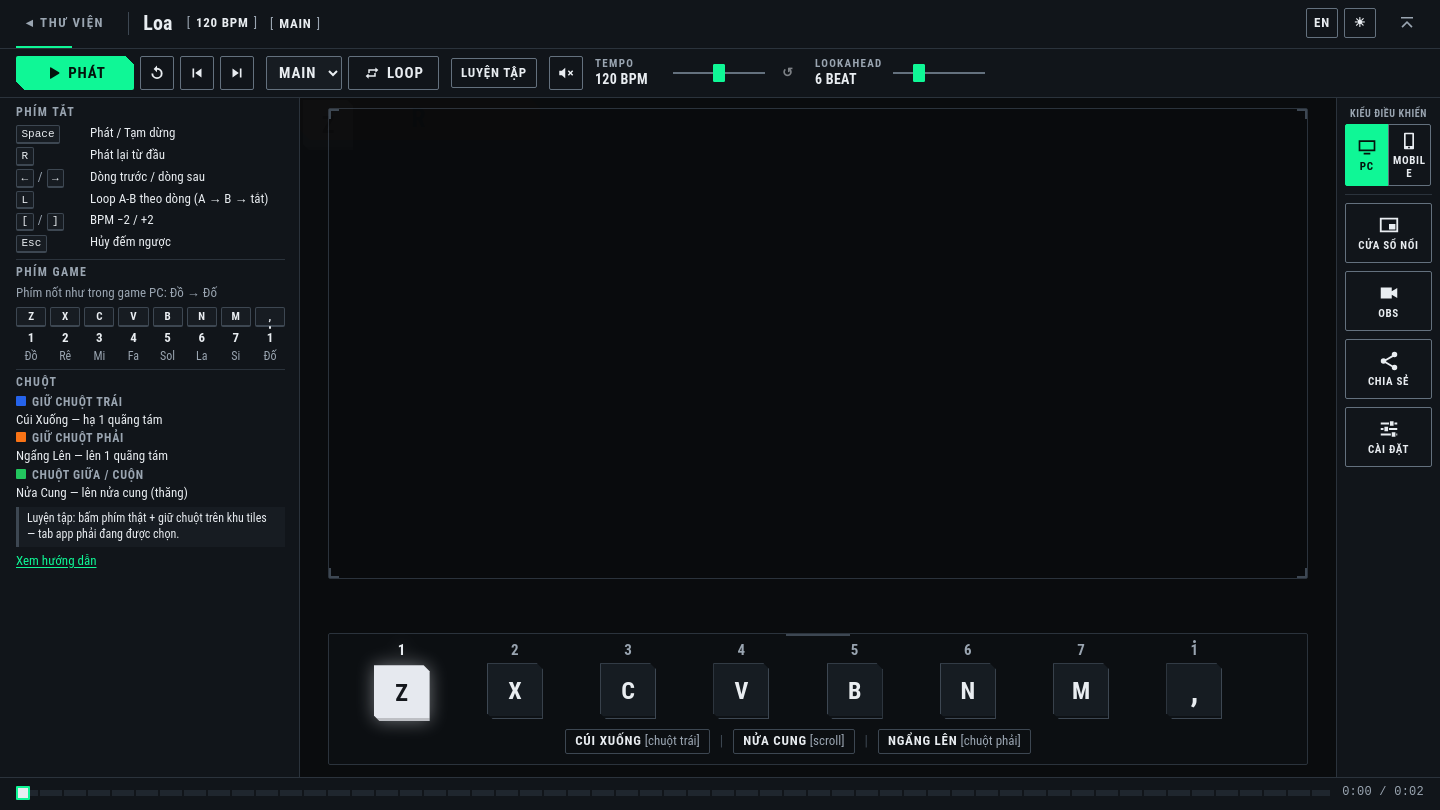
Test: màn chơi — nút loa (giai điệu mẫu) › Hủy (và Esc) giữ tắt tiếng, focus về nút loa
Press the mouse on the button named "Tiếng giai điệu" at (566, 73), box [549, 56, 583, 90]
Press the mouse on the button named "Tiếng giai điệu" at (566, 73), box [549, 56, 583, 90]
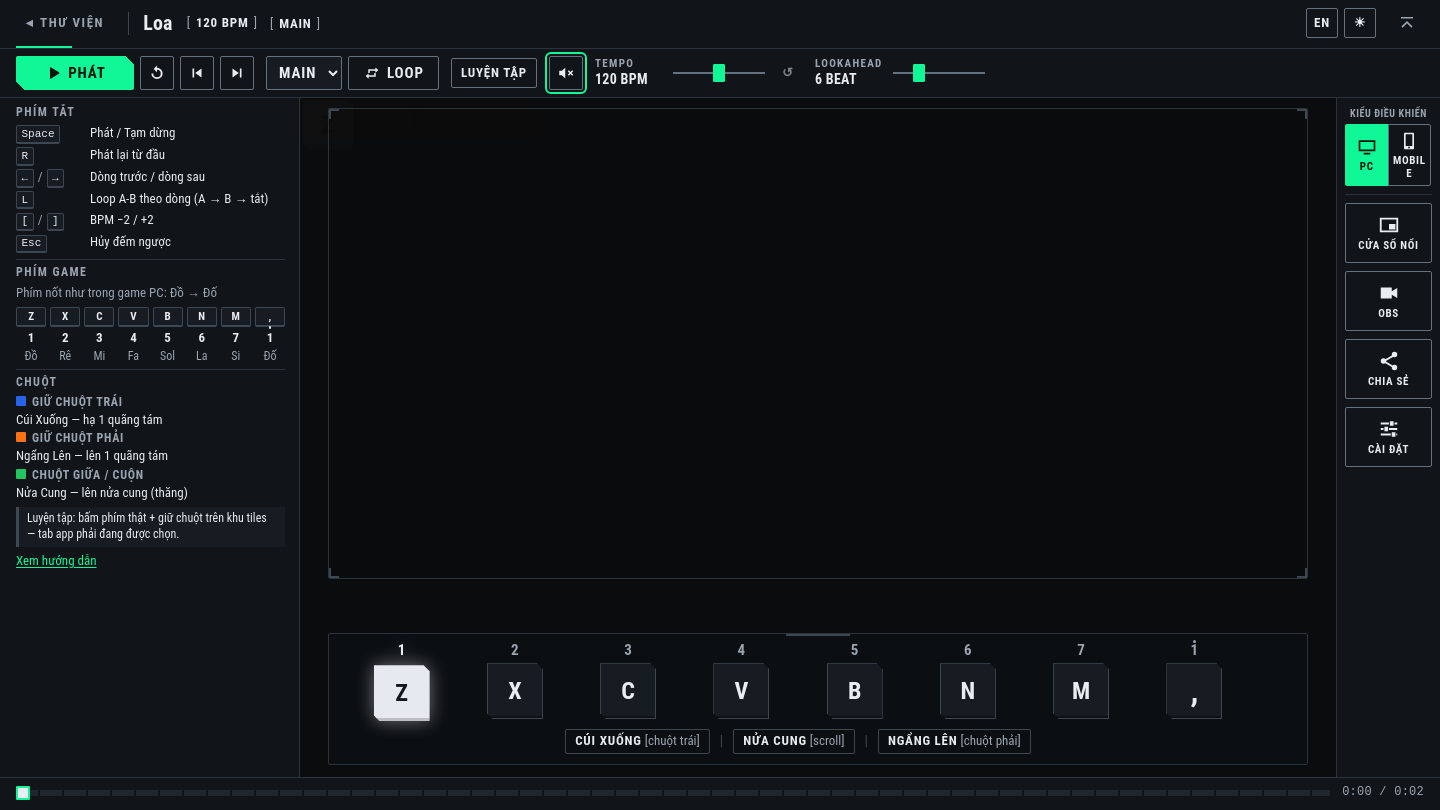
Click the button named "Tiếng giai điệu" at (566, 73), box [549, 56, 583, 90]
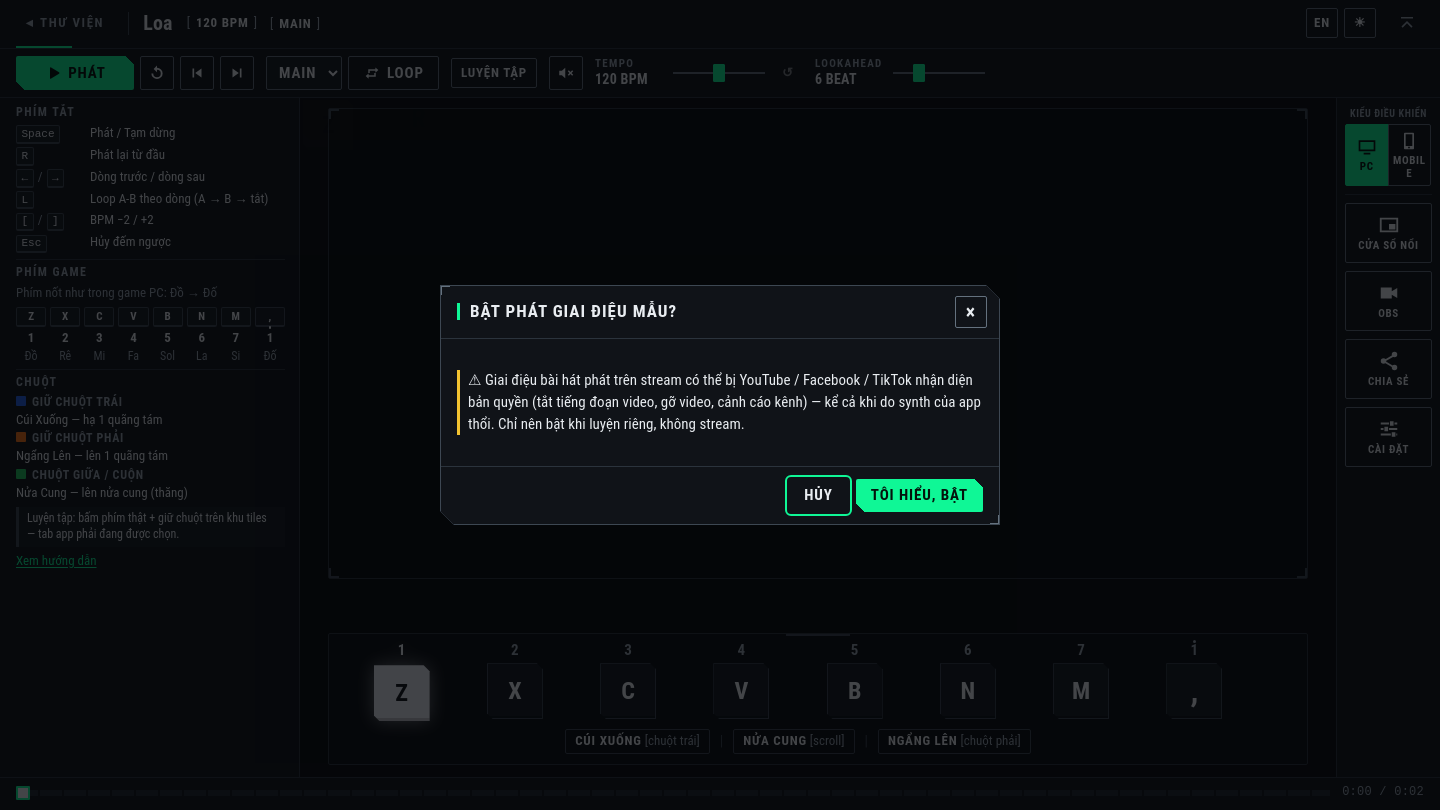
Click the button "Hủy" at (818, 496), box [789, 479, 848, 512]
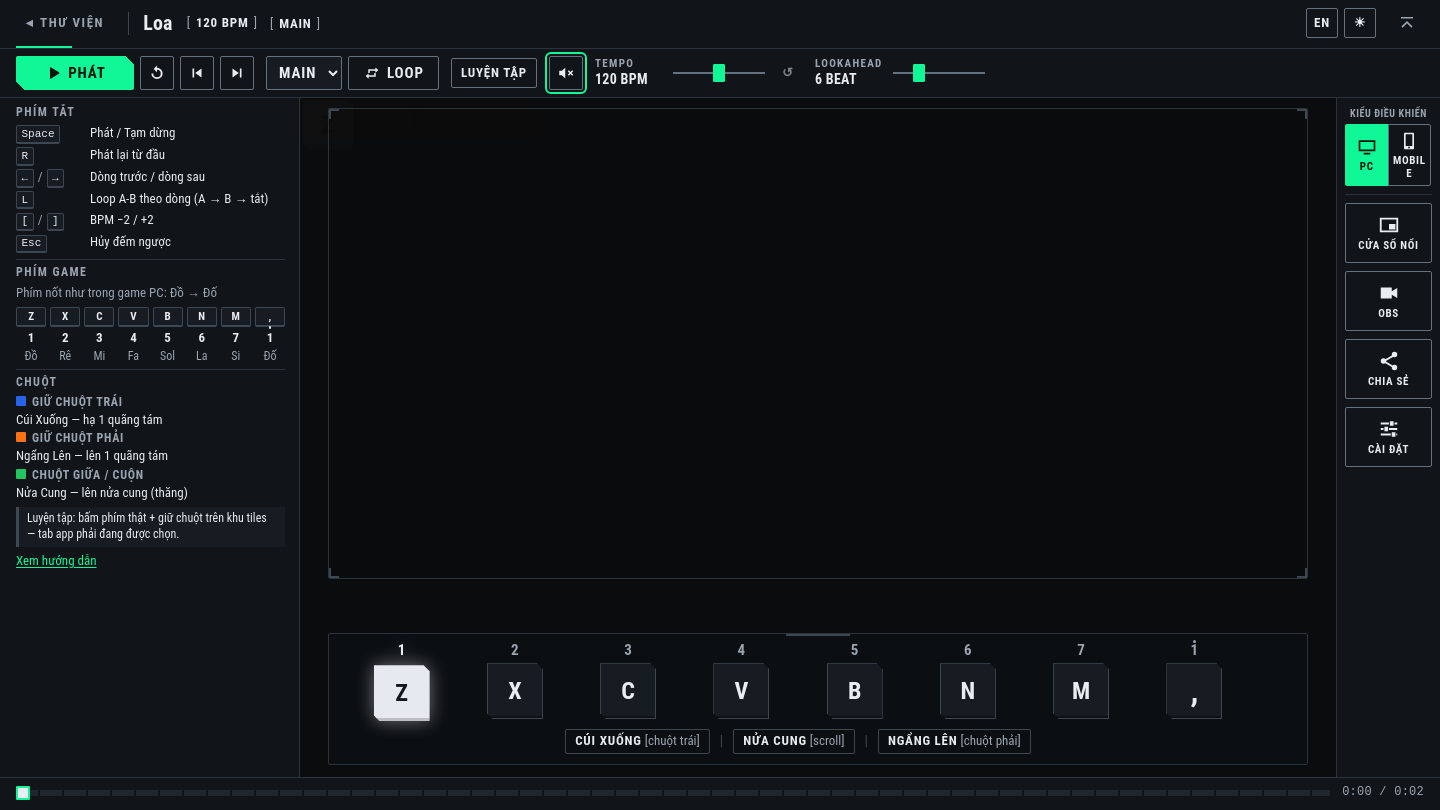
Expected: the heading "Bật phát giai điệu mẫu?" is gone
Press the mouse on the button named "Tiếng giai điệu" at (566, 73), box [549, 56, 583, 90]
Click the button named "Tiếng giai điệu" at (566, 73), box [549, 56, 583, 90]
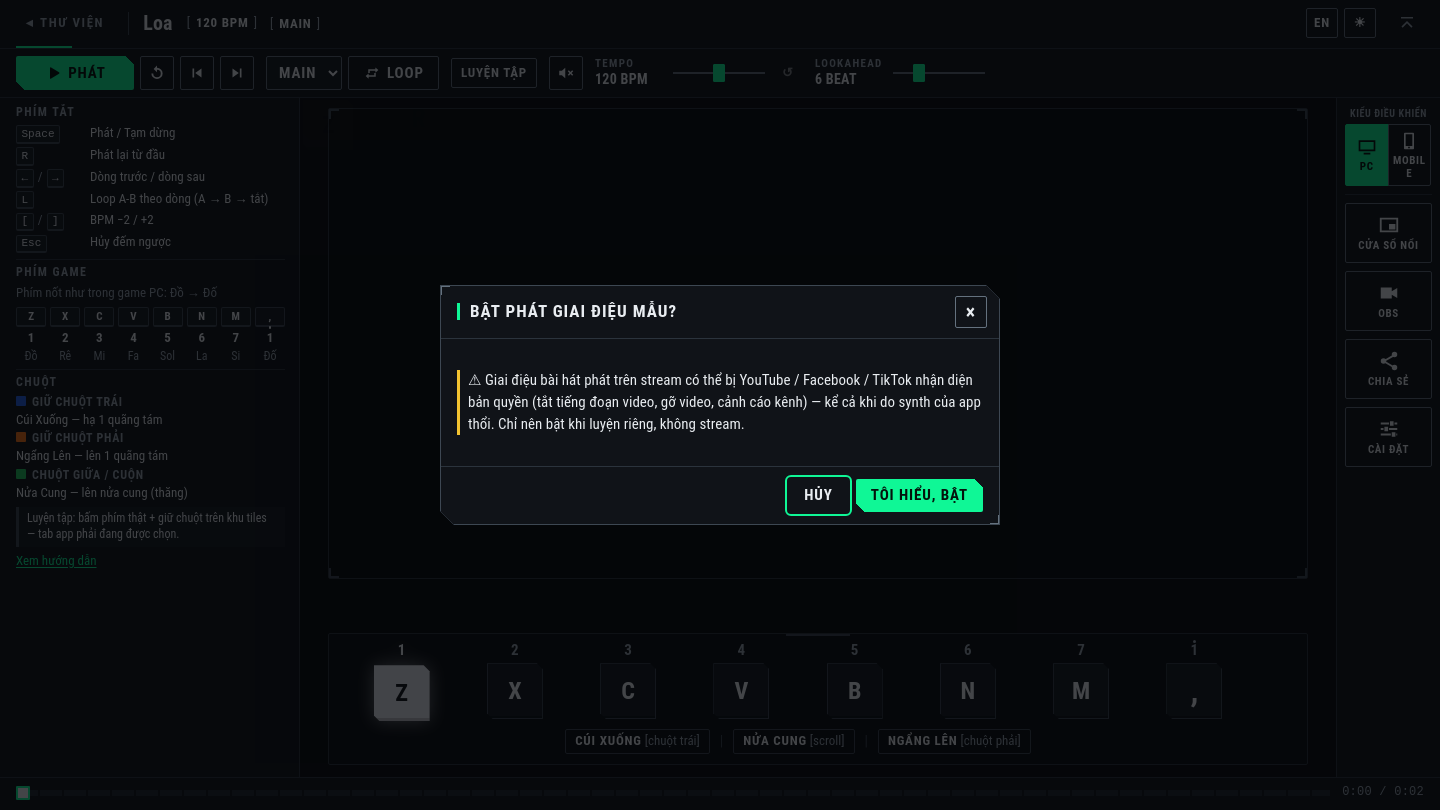
Expected: the dialog "Bật phát giai điệu mẫu?" is shown, [440, 285, 1000, 525]
Press Escape
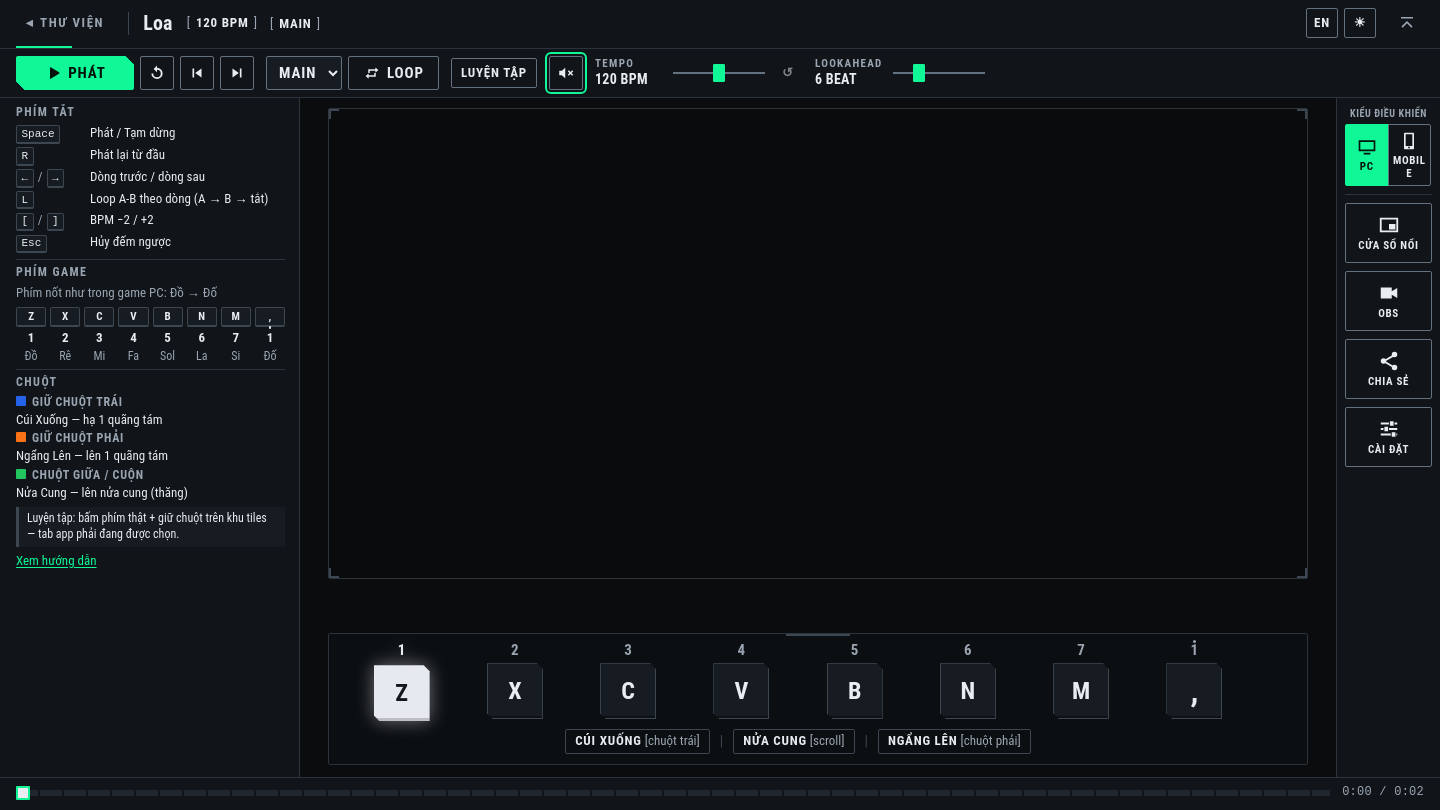
Expected: the heading "Bật phát giai điệu mẫu?" is gone
